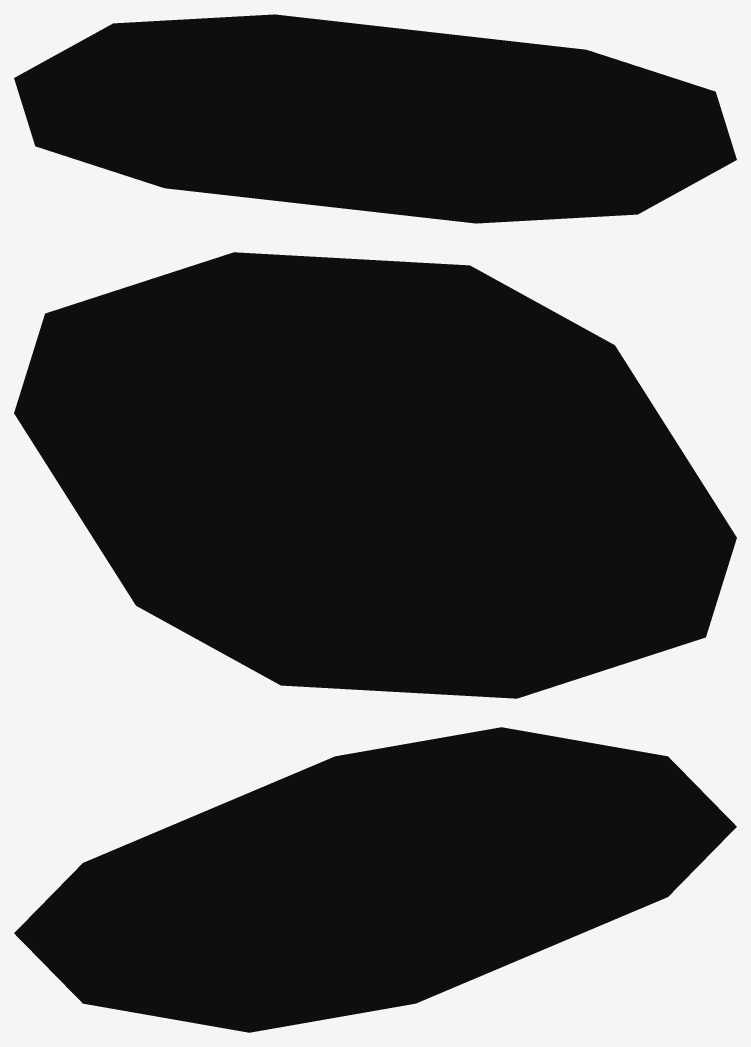
3 views of the same model, one above another, from view 1: azimuth 30°, elevation 25°; view 2: azimuth 150°, elevation 25°; view 3: azimuth 270°, elevation 25° (orthographic). The views are drawn at different scales.
Parts seen in each view (by area): view 1: Joint_0_Object_0; view 2: Joint_0_Object_0; view 3: Joint_0_Object_0.
Boxes of the visible parts, <box> form: Joint_0_Object_0: <box>14,14,736,223</box>; Joint_0_Object_0: <box>14,252,736,698</box>; Joint_0_Object_0: <box>14,727,736,1032</box>.
Size of the model in its own units: 215 by 0 by 215.
1 material, 1 textured.
